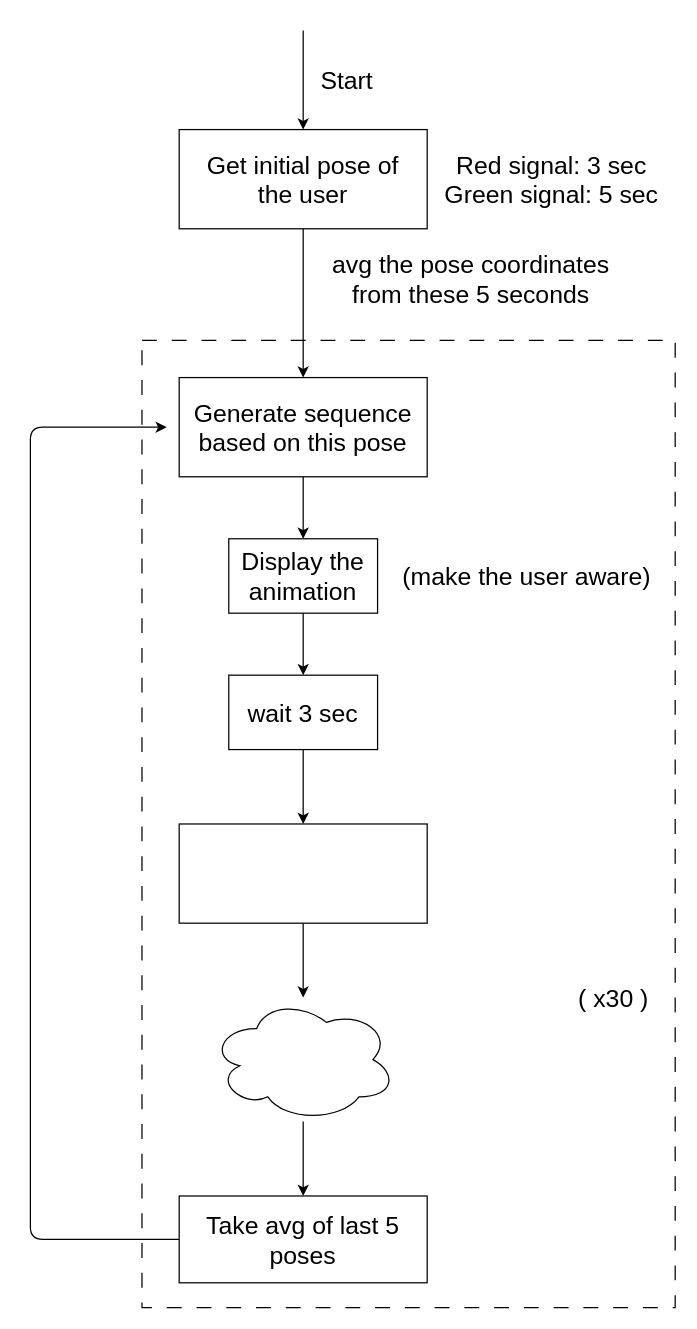
Image size: 697x1329. Some labels were removed from this diagram. The box of each missing label's shape, as (x1, y1, x2, y2) in pixels:
Get user data from video input: (178, 823, 427, 923)
Other stuff: (209, 996, 396, 1122)
